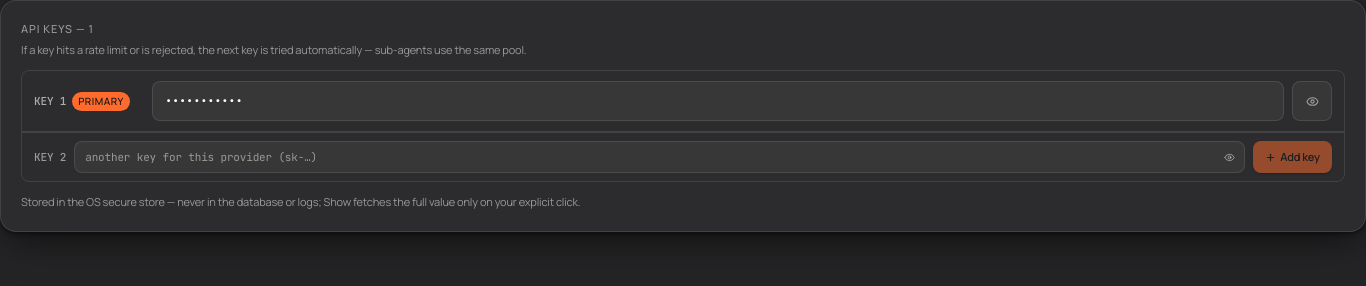
Test: ProviderKeysCard — the R47 TAURI FIX (R92-D3) › a SECRET-SERVICE save stays the plain green confirmation (no disclosure testid)
This screenshot has width=1366, height=286.
Replace the text in the field with test id "stored-key-masked" with "sk-or-v1-green". click: (718, 101)
box: 152,81 -> 1284,121
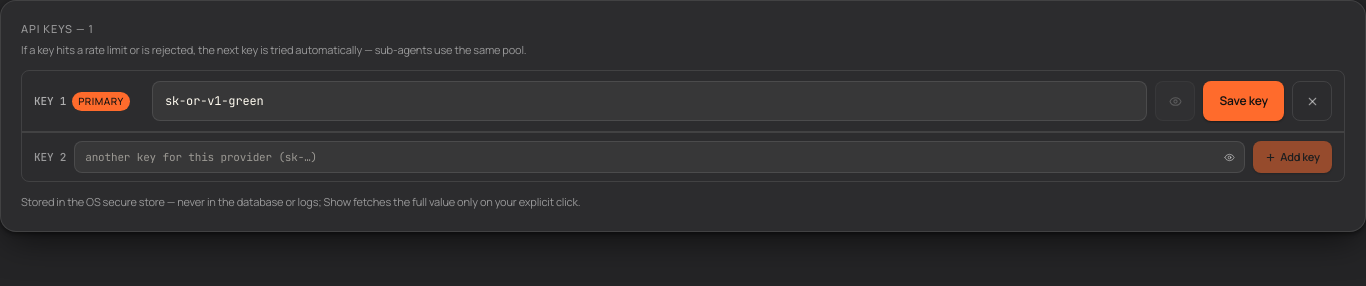
Click the button with test id "save-key-button". click: (1244, 101)
box: 1203,81 -> 1284,121
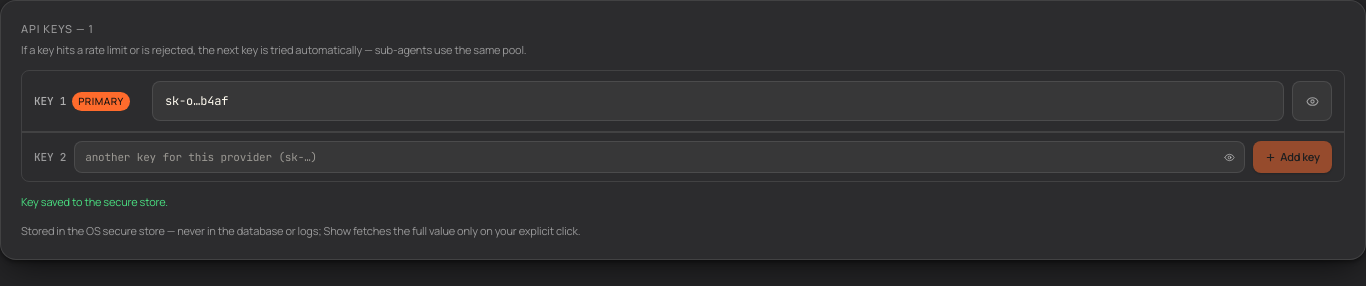
Expected: the text "Key saved to the secure store." is shown, 21,194 -> 168,209
